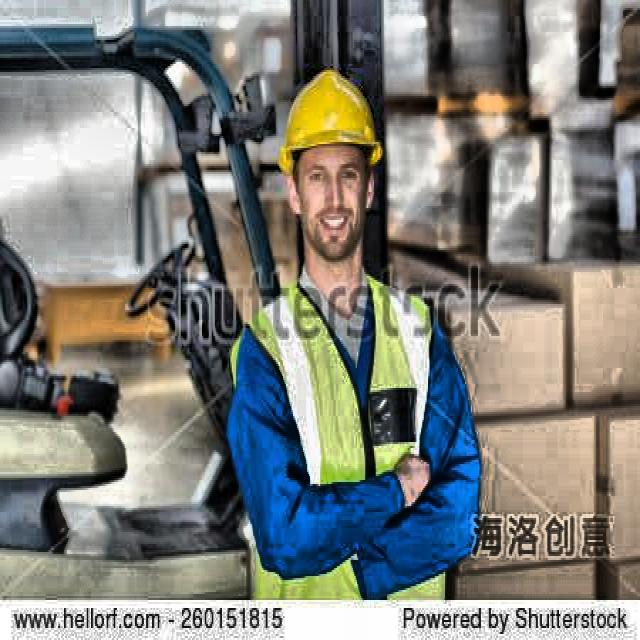helmet: (276, 52, 390, 272)
